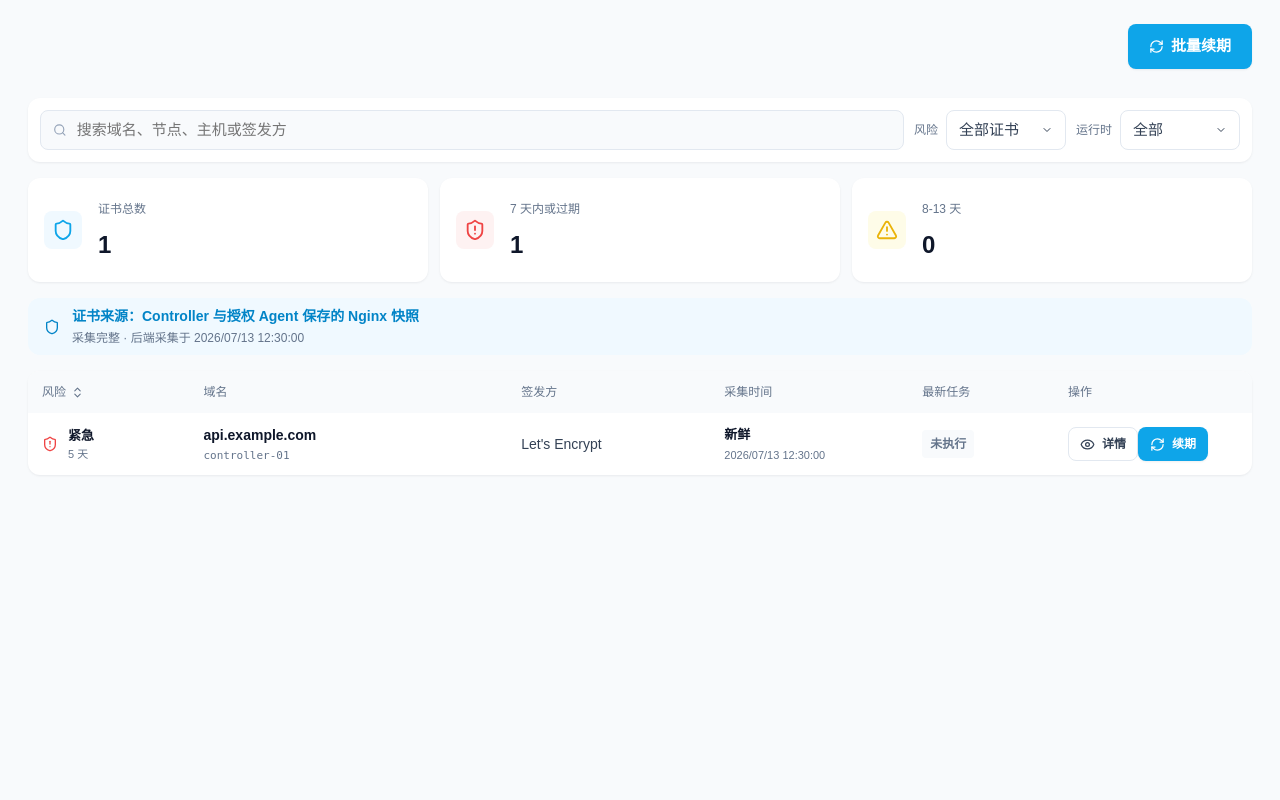
Scenario: sites live monitoring page › submits one renewal with one-time reauth and keeps the backend expiry unchanged
This screenshot has width=1280, height=800.
Click the button with aria-label "续期 api.example.com 证书" at [1173, 444], box [1138, 427, 1208, 461]
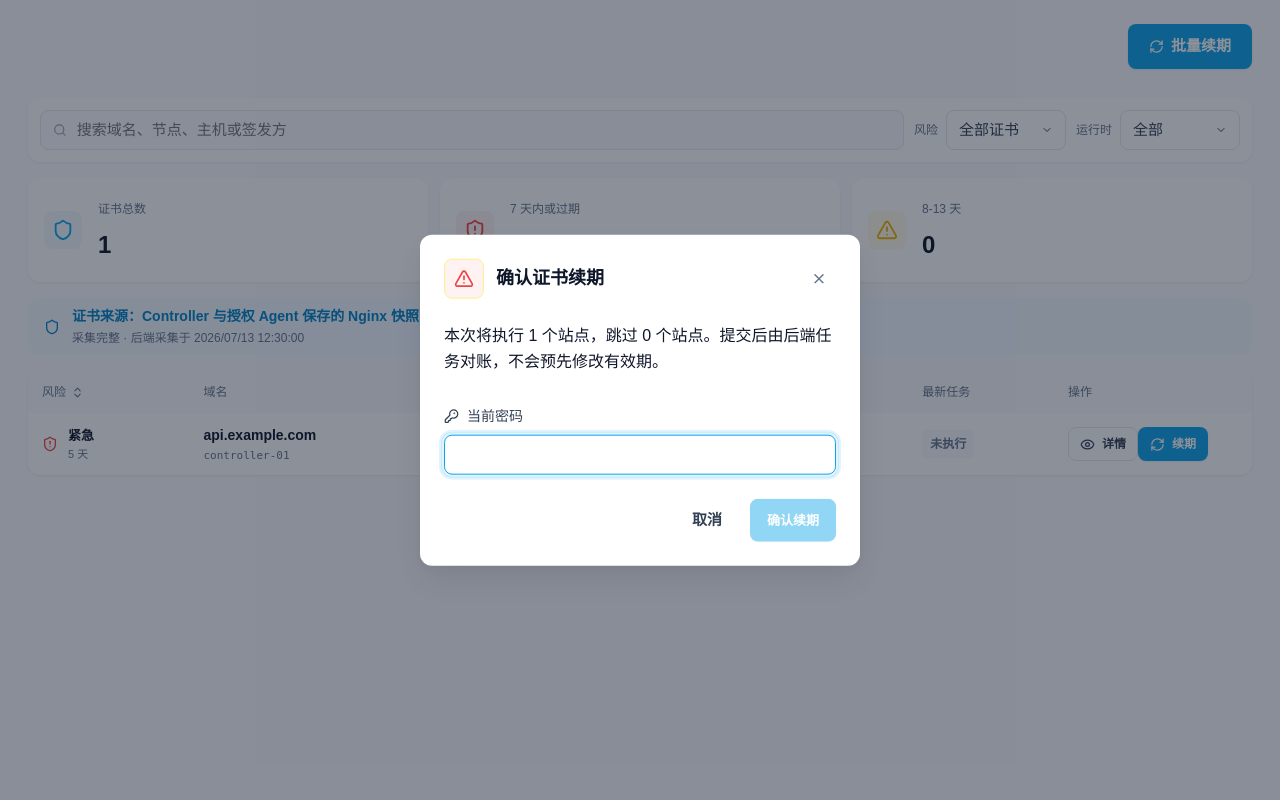
Type "correct-password" into the password field labelled "当前密码" at [640, 455], box [444, 435, 836, 475]
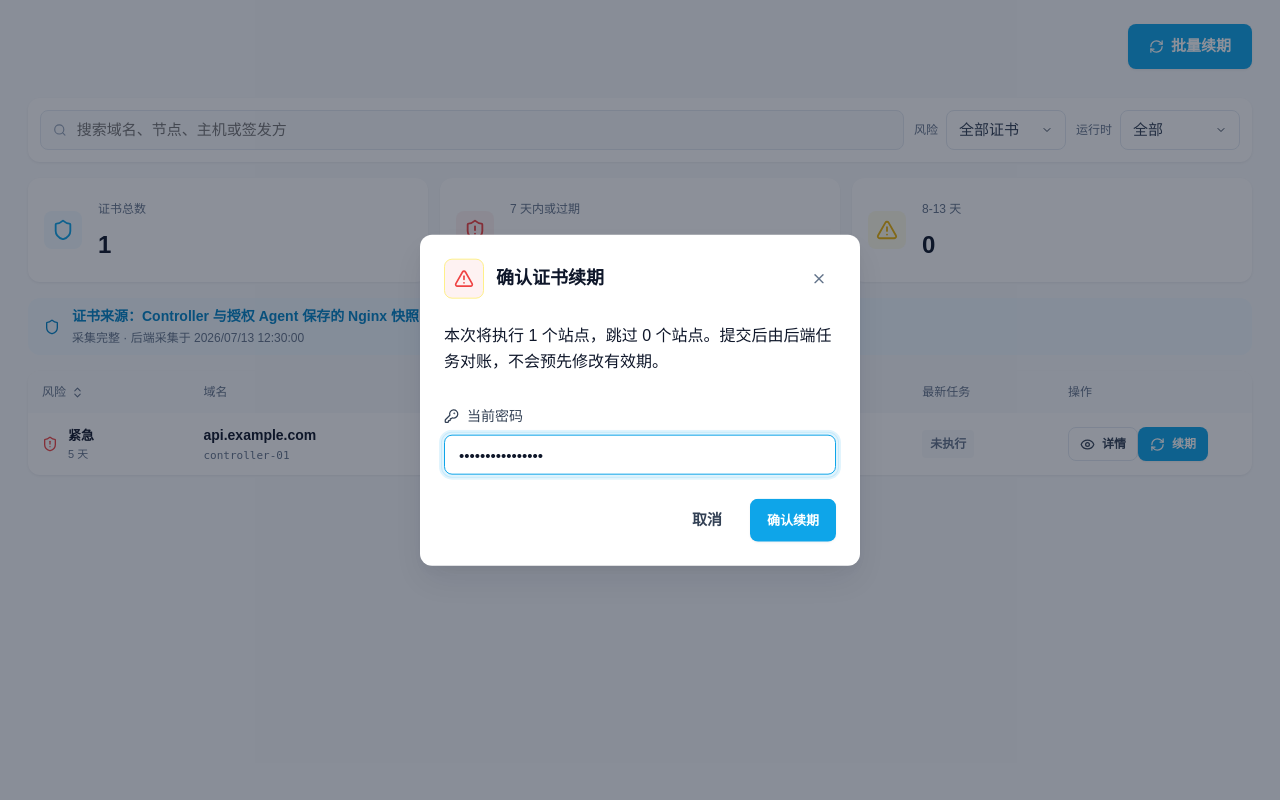
Click the button "确认续期" at [793, 520], box [750, 499, 836, 541]
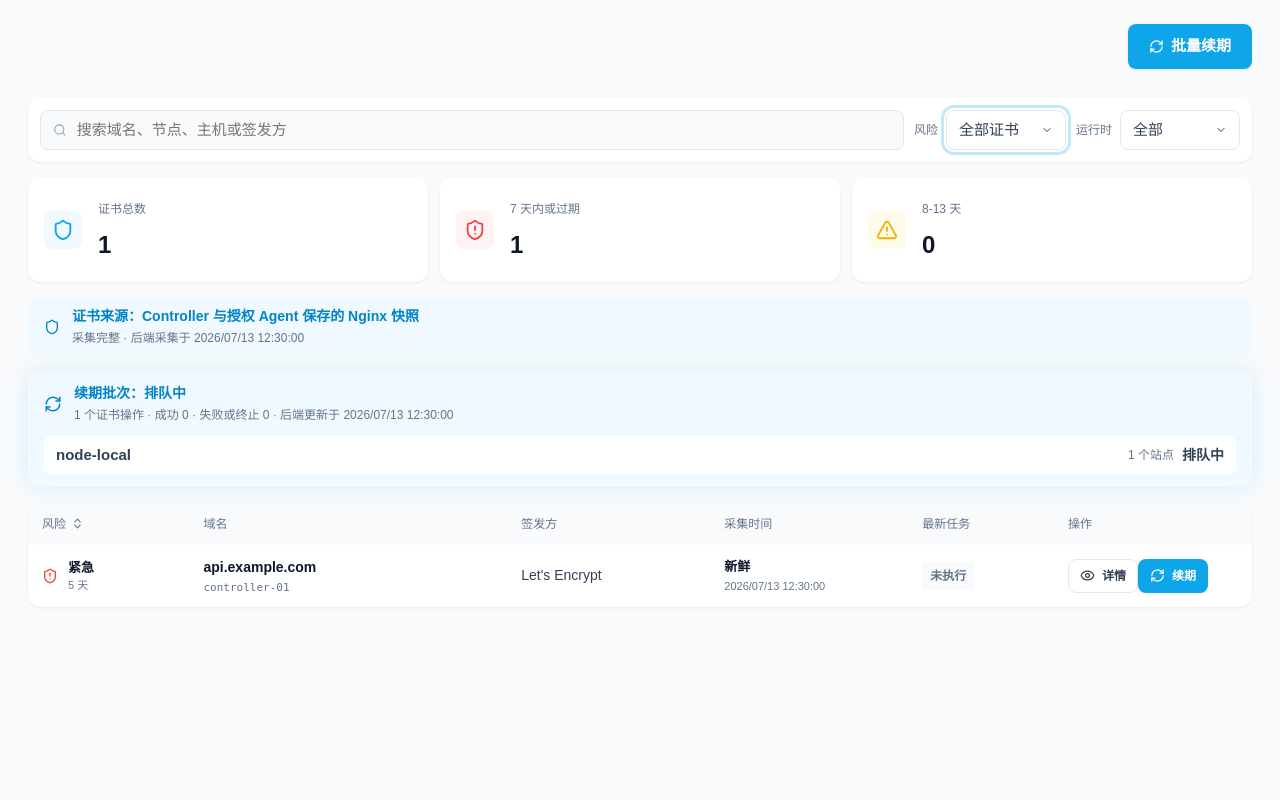
Expected: the text "5 天" is shown, [68, 579, 88, 591]
Expected: the text "续期批次：排队中" is shown, [74, 385, 186, 401]
